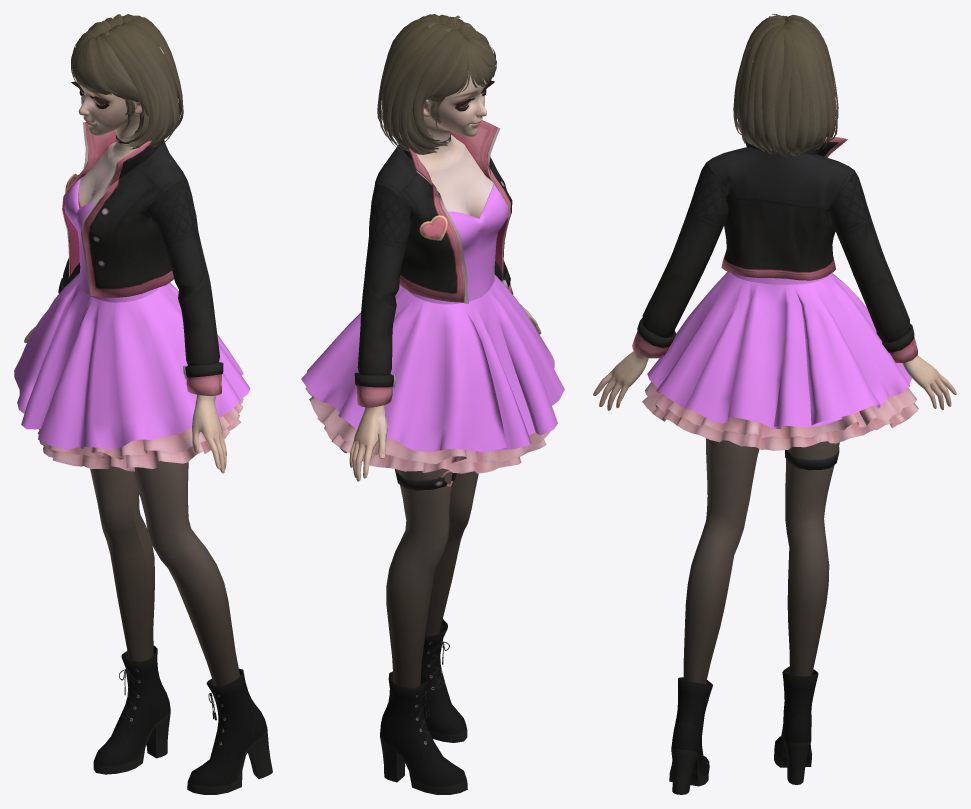
3 renders of one model, left to right at view 1: azimuth 30°, elevation 25°; view 2: azimuth 150°, elevation 25°; view 3: azimuth 270°, elevation 25°, orthographic. The views are drawn at different scales.
Visible parts, largest first — view 1: Nv03_Cloth_01, Nv03_Cloth_03, Nv03_Cloth_02, Nv03_Shoes, Nv03_Hair, Nv03_Cloth_04, Nv03_Head, Nv03_Hand, Nv03_Body, Nv03_Neck; view 2: Nv03_Cloth_01, Nv03_Cloth_03, Nv03_Cloth_02, Nv03_Hair, Nv03_Shoes, Nv03_Cloth_04, Nv03_Body, Nv03_Head, Nv03_Hand, Nv03_Neck; view 3: Nv03_Cloth_03, Nv03_Cloth_01, Nv03_Cloth_02, Nv03_Hair, Nv03_Shoes, Nv03_Cloth_04, Nv03_Hand.
Part boxes in pixels (bbox=[...]): Nv03_Cloth_01: bbox=[14, 177, 250, 449]; Nv03_Cloth_03: bbox=[58, 122, 223, 395]; Nv03_Cloth_02: bbox=[90, 461, 240, 686]; Nv03_Shoes: bbox=[93, 645, 272, 794]; Nv03_Hair: bbox=[71, 14, 183, 149]; Nv03_Cloth_04: bbox=[38, 122, 243, 471]; Nv03_Head: bbox=[76, 47, 164, 135]; Nv03_Hand: bbox=[24, 327, 226, 473]; Nv03_Body: bbox=[78, 141, 170, 206]; Nv03_Neck: bbox=[115, 114, 139, 151]; Nv03_Cloth_01: bbox=[301, 183, 564, 452]; Nv03_Cloth_03: bbox=[354, 120, 513, 490]; Nv03_Cloth_02: bbox=[386, 468, 478, 688]; Nv03_Hair: bbox=[377, 14, 496, 154]; Nv03_Shoes: bbox=[380, 619, 467, 794]; Nv03_Cloth_04: bbox=[305, 127, 550, 473]; Nv03_Body: bbox=[416, 135, 493, 218]; Nv03_Head: bbox=[423, 71, 487, 136]; Nv03_Hand: bbox=[349, 304, 541, 481]; Nv03_Neck: bbox=[424, 116, 452, 153]; Nv03_Cloth_03: bbox=[632, 127, 917, 470]; Nv03_Cloth_01: bbox=[647, 271, 911, 428]; Nv03_Cloth_02: bbox=[683, 438, 839, 683]; Nv03_Hair: bbox=[733, 14, 838, 157]; Nv03_Shoes: bbox=[669, 666, 818, 794]; Nv03_Cloth_04: bbox=[642, 139, 918, 450]; Nv03_Hand: bbox=[593, 351, 956, 410].
Size of the model in its own units: 47.08 by 164 by 72.9.
